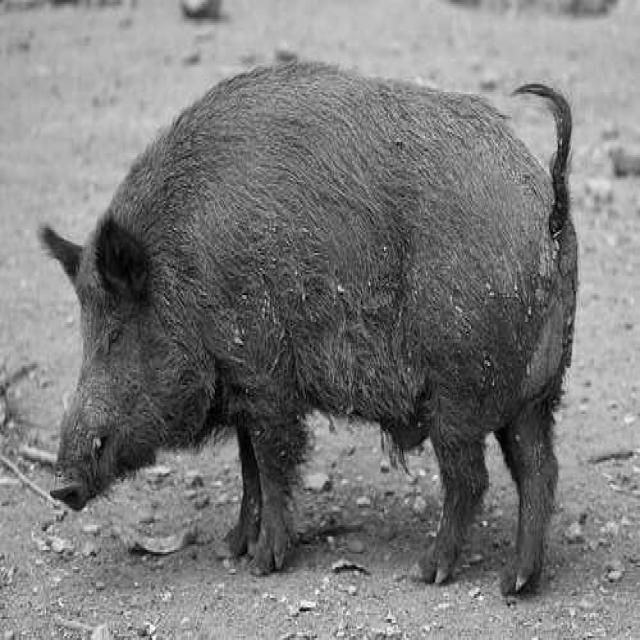boar: (41, 61, 580, 594)
